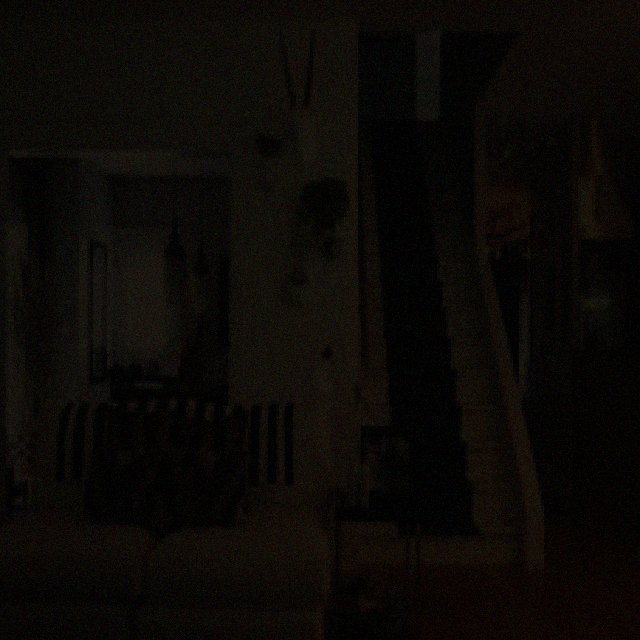stair: (359, 120, 525, 564)
